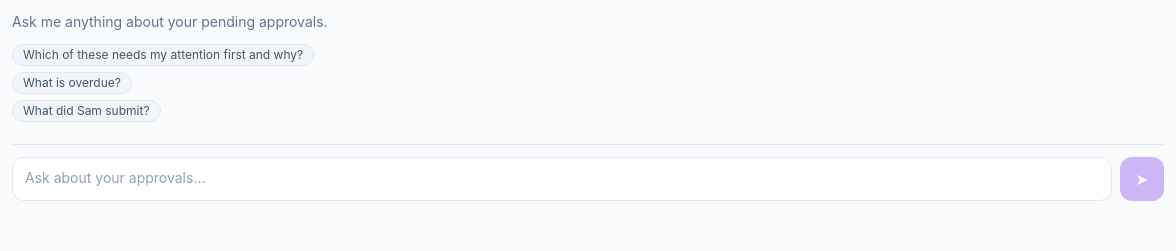
Test case: <ChatView /> › keeps partial text and flags the reply as interrupted when the stream errors mid-answer
The width and height of the screenshot is (1176, 251).
Type "hello" into the text box named "message".
click(562, 179); type("hello")  # box [12,157,1112,201]
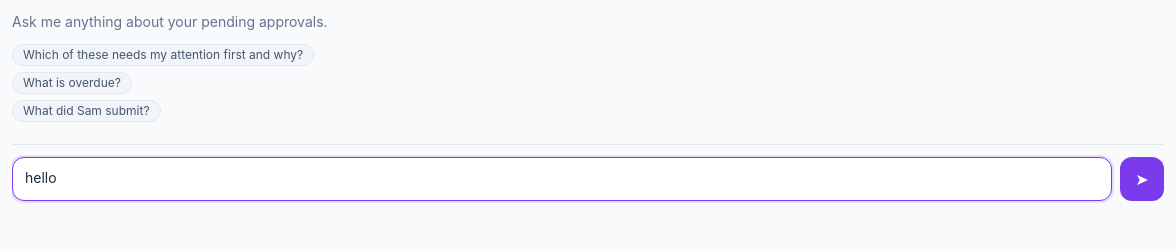
Click the button named "send".
click(1142, 179)  # box [1120,157,1164,201]
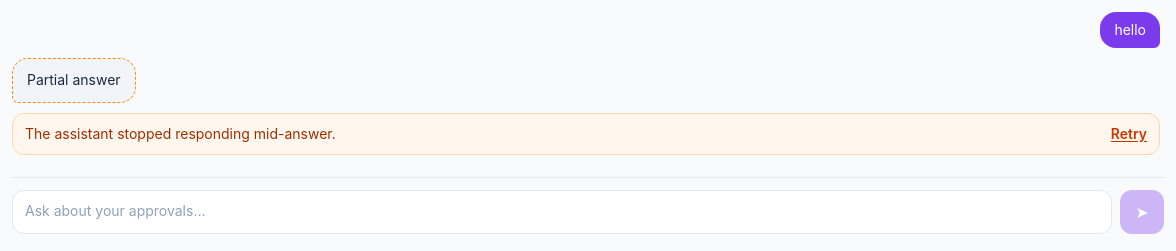
Check: the text "Partial answer" is shown, box [27,69,121,92]
Check: the message shows "stopped responding", box [25,125,336,142]
